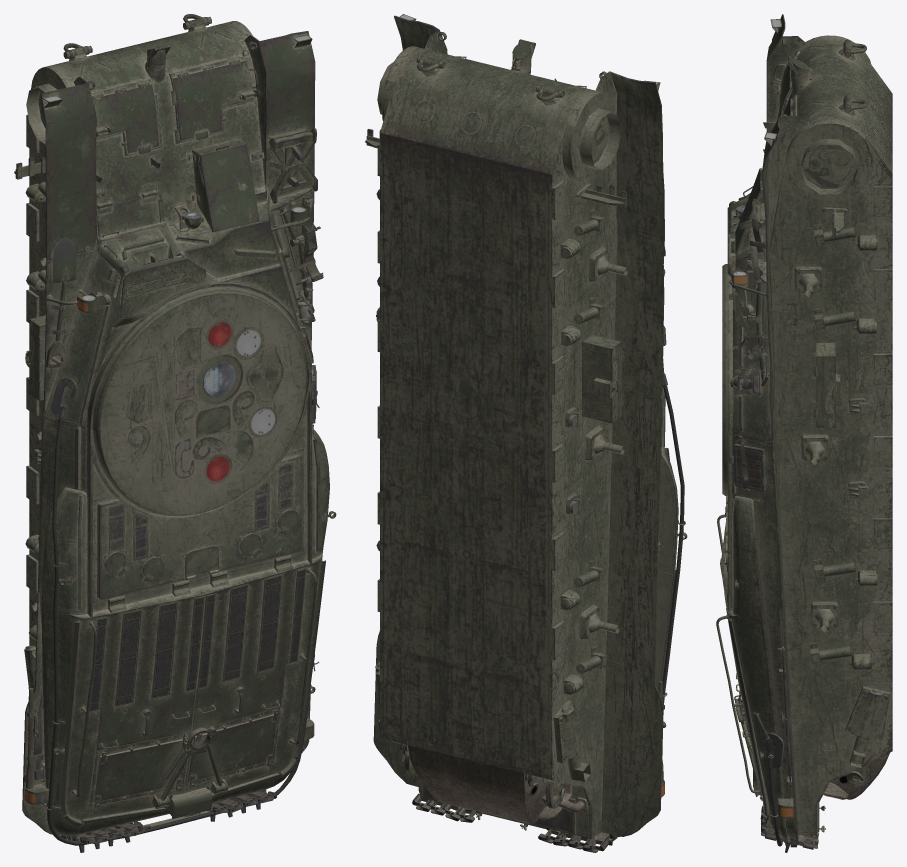
File: Hull.glb
The picture shows the model from 3 angles, left to right: view 1: azimuth 30°, elevation 25°; view 2: azimuth 150°, elevation 25°; view 3: azimuth 270°, elevation 25°; orthographic projection. The views are drawn at different scales.
Visible parts, largest first — view 1: set_0_group_0; view 2: set_0_group_0; view 3: set_0_group_0.
Part boxes in pixels (x1,y1,x2,y2): set_0_group_0: (14, 14, 336, 852); set_0_group_0: (365, 14, 687, 852); set_0_group_0: (716, 14, 892, 852).
Bounding box in the file's own units: 2.39 × 6.26 × 1.34.
Materials: 1 (1 with a texture image).
